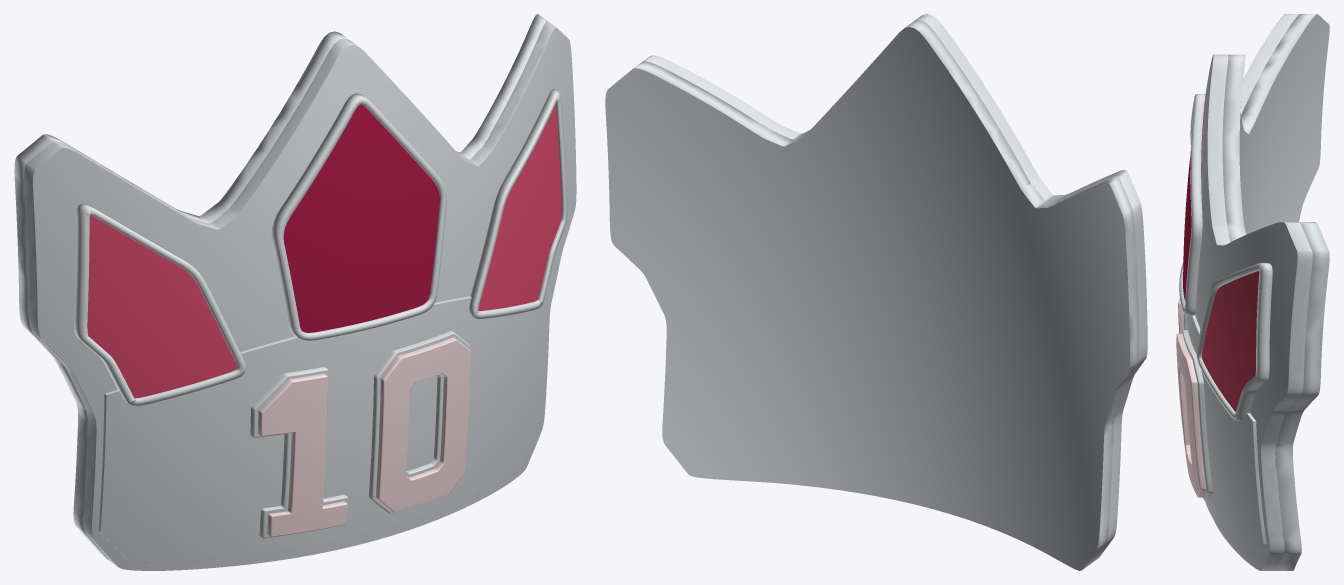
The model's file is top-10.glb.
3 renders of one model, left to right at view 1: azimuth 30°, elevation 25°; view 2: azimuth 150°, elevation 25°; view 3: azimuth 270°, elevation 25°, orthographic. The views are drawn at different scales.
Visible parts, largest first — view 1: metal_crown_band_conforming_002, metal_crown_chassis_conforming_002, acrylic_crown_center_conforming_002, acrylic_crown_left_conforming_002, ivory_number_10_1_0_conforming_002, satin_crown_reverse_conforming_002, acrylic_crown_right_conforming_002, ivory_number_10_0_0_conforming_002, metal_crown_cell_center_002, metal_crown_cell_left_002, metal_crown_cell_right_002, metal_number_10_1_0_conforming_002 (+1 smaller); view 2: satin_crown_reverse_conforming_002, metal_crown_chassis_conforming_002; view 3: satin_crown_reverse_conforming_002, metal_crown_chassis_conforming_002, metal_crown_band_conforming_002, acrylic_crown_right_conforming_002, metal_crown_cell_right_002, metal_crown_cell_center_002, ivory_number_10_1_0_conforming_002, metal_number_10_1_0_conforming_002, acrylic_crown_center_conforming_002.
Boxes of the visible parts, x1,y1,x2,y2 form: metal_crown_band_conforming_002: (98, 286, 548, 562); metal_crown_chassis_conforming_002: (24, 21, 576, 570); acrylic_crown_center_conforming_002: (283, 104, 439, 332); acrylic_crown_left_conforming_002: (87, 215, 236, 398); ivory_number_10_1_0_conforming_002: (375, 337, 470, 512); satin_crown_reverse_conforming_002: (14, 14, 546, 560); acrylic_crown_right_conforming_002: (478, 104, 561, 310); ivory_number_10_0_0_conforming_002: (257, 373, 347, 536); metal_crown_cell_center_002: (271, 93, 446, 340); metal_crown_cell_left_002: (74, 203, 245, 405); metal_crown_cell_right_002: (469, 88, 567, 318); metal_number_10_1_0_conforming_002: (369, 331, 470, 513); satin_crown_reverse_conforming_002: (605, 20, 1139, 570); metal_crown_chassis_conforming_002: (642, 14, 1147, 563); satin_crown_reverse_conforming_002: (1222, 14, 1329, 570); metal_crown_chassis_conforming_002: (1195, 14, 1312, 570); metal_crown_band_conforming_002: (1187, 314, 1266, 561); acrylic_crown_right_conforming_002: (1202, 271, 1259, 411); metal_crown_cell_right_002: (1196, 263, 1272, 420); metal_crown_cell_center_002: (1179, 94, 1205, 315); ivory_number_10_1_0_conforming_002: (1176, 333, 1206, 497); metal_number_10_1_0_conforming_002: (1182, 330, 1212, 501); acrylic_crown_center_conforming_002: (1183, 100, 1205, 301).
Size of the model in its own units: 2.07 by 1.83 by 0.587.
